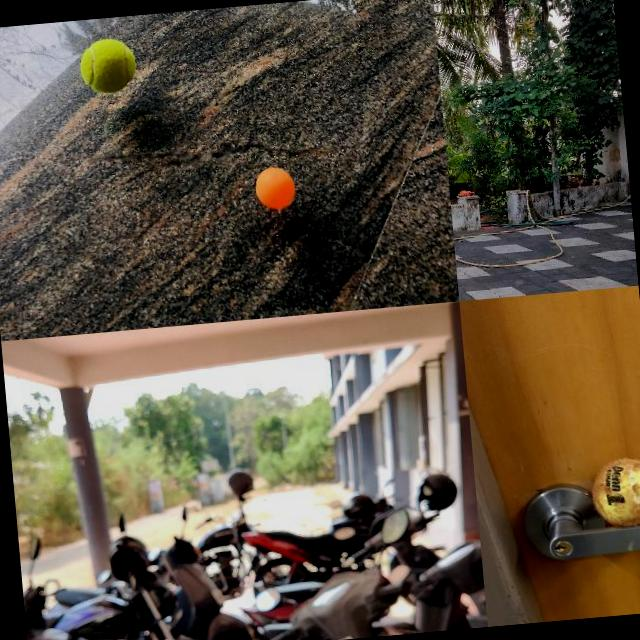Tennis Ball: (587, 454, 640, 528), (78, 36, 136, 94)
